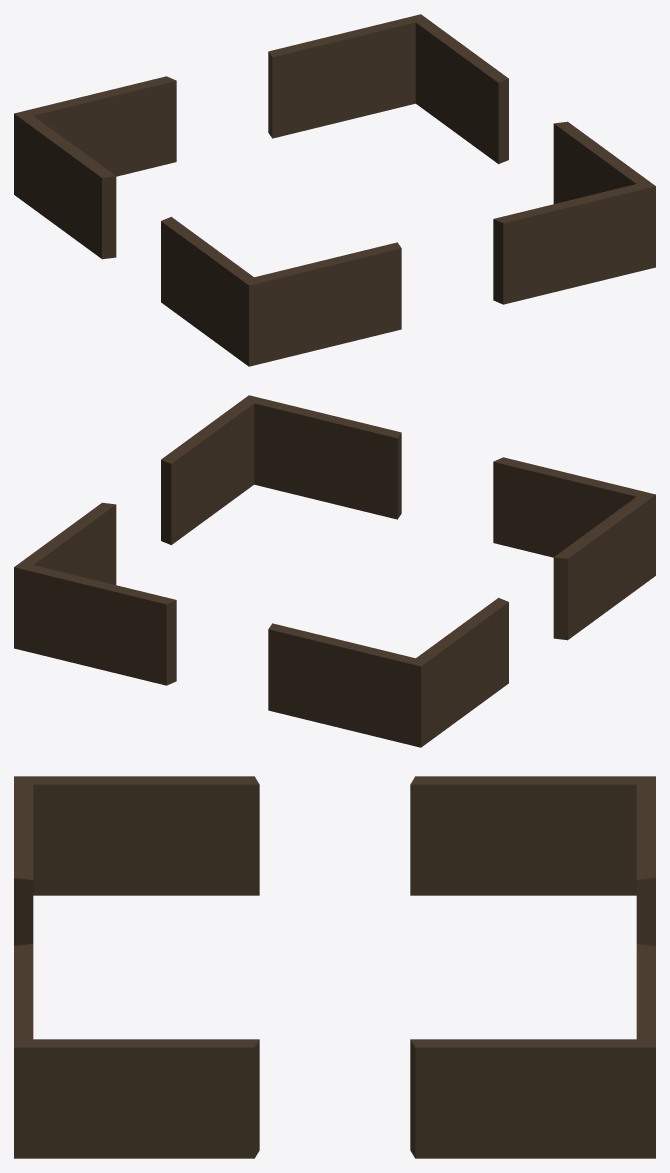
Rendered from RoomWalls4door.fbx.
3 renders of one model, top to bottom at view 1: azimuth 30°, elevation 25°; view 2: azimuth 150°, elevation 25°; view 3: azimuth 270°, elevation 25°, orthographic. The views are drawn at different scales.
Visible parts, largest first — view 1: Room1.008; view 2: Room1.008; view 3: Room1.008.
Boxes of the visible parts, x1,y1,x2,y2 form: Room1.008: (14, 14, 655, 366); Room1.008: (14, 395, 655, 747); Room1.008: (14, 776, 655, 1158).
Size of the model in its own units: 796 by 152 by 796.
